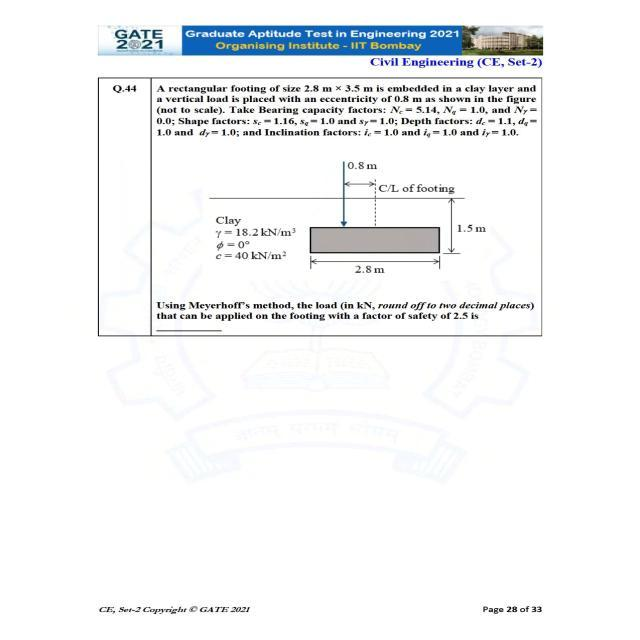Question_Answer_Block: (100, 78, 542, 336)
Question_Block: (102, 78, 540, 336)
Question_Paper_Area: (99, 78, 542, 336)
